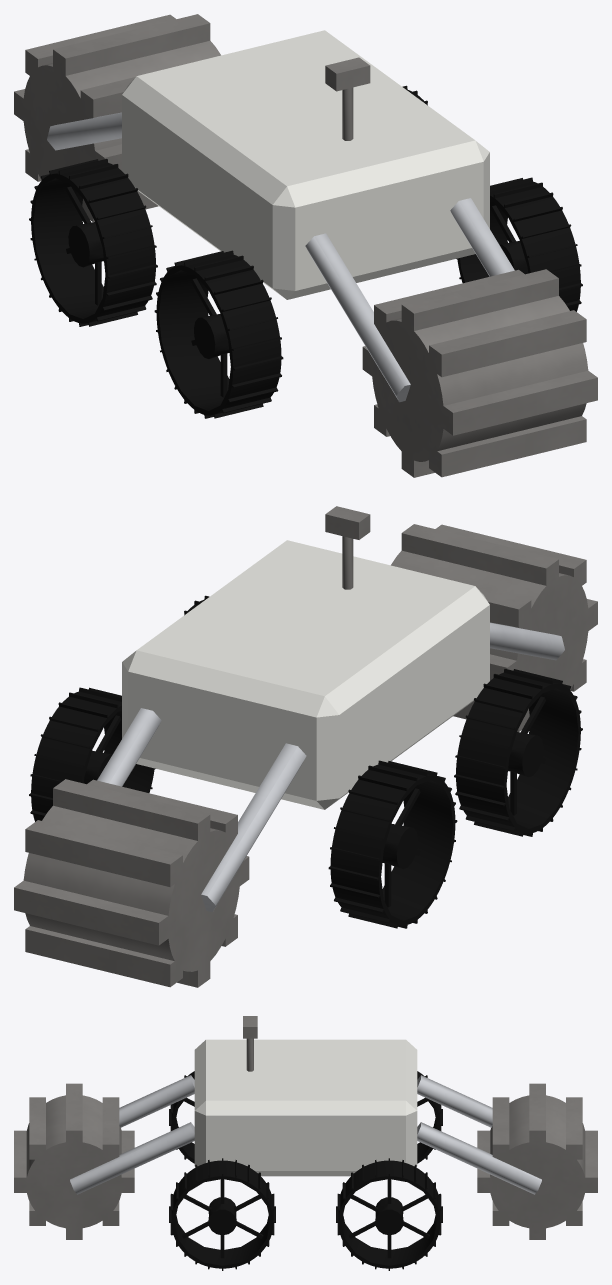
The model's file is rover06_excavator_digging.glb.
3 views of the same model, one above another, from view 1: azimuth 30°, elevation 25°; view 2: azimuth 150°, elevation 25°; view 3: azimuth 270°, elevation 25° (orthographic). The views are drawn at different scales.
Visible parts, largest first — view 1: body, drum_front, wheel_3, wheel_4, drum_rear, drum_arms, wheel_1, mast; view 2: body, drum_rear, wheel_4, wheel_3, drum_front, drum_arms, wheel_2, mast; view 3: body, drum_front, drum_rear, drum_arms, wheel_1, wheel_2, mast, wheel_3, wheel_4.
Boxes of the visible parts, left/top/right/bottom form: body: left=122, top=30, right=489, bottom=299; drum_front: left=362, top=269, right=597, bottom=477; wheel_3: left=154, top=250, right=283, bottom=418; wheel_4: left=29, top=159, right=157, bottom=326; drum_rear: left=14, top=14, right=220, bottom=222; drum_arms: left=47, top=112, right=514, bottom=402; wheel_1: left=456, top=177, right=582, bottom=311; mast: left=325, top=57, right=370, bottom=140; body: left=122, top=540, right=489, bottom=809; drum_rear: left=14, top=779, right=249, bottom=987; wheel_4: left=328, top=760, right=457, bottom=928; wheel_3: left=454, top=669, right=582, bottom=836; drum_front: left=391, top=524, right=597, bottom=732; drum_arms: left=97, top=622, right=564, bottom=912; wheel_2: left=29, top=687, right=155, bottom=821; mast: left=325, top=506, right=370, bottom=589; body: left=194, top=1039, right=417, bottom=1176; drum_front: left=14, top=1083, right=134, bottom=1239; drum_rear: left=477, top=1083, right=597, bottom=1239; drum_arms: left=70, top=1075, right=541, bottom=1194; wheel_1: left=169, top=1158, right=275, bottom=1270; wheel_2: left=336, top=1158, right=442, bottom=1270; mast: left=243, top=1016, right=257, bottom=1071; wheel_3: left=169, top=1071, right=194, bottom=1163; wheel_4: left=417, top=1071, right=442, bottom=1163.
Bounding box in the file's own units: 1.44 × 1.16 × 3.15.
4 materials, 2 textured.
